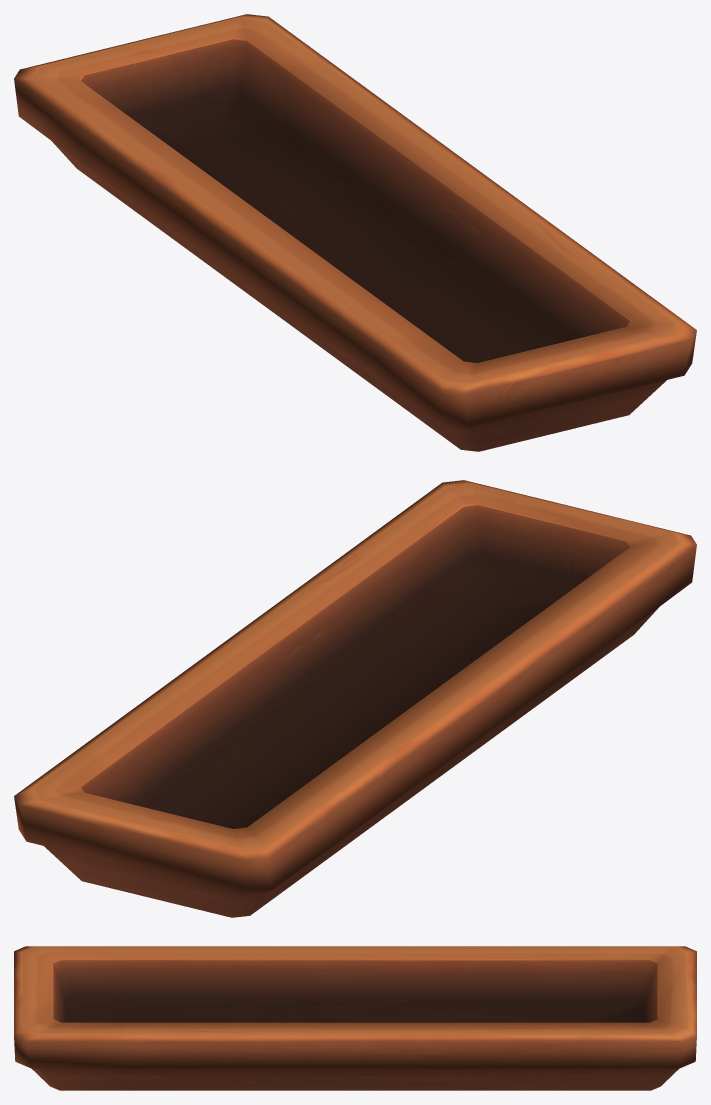
Rendered from SE_Pot_02c.fbx.
The picture shows the model from 3 angles, top to bottom: view 1: azimuth 30°, elevation 25°; view 2: azimuth 150°, elevation 25°; view 3: azimuth 270°, elevation 25°; orthographic projection. The views are drawn at different scales.
Parts seen in each view (by area): view 1: SE_Pot_02c; view 2: SE_Pot_02c; view 3: SE_Pot_02c.
Part boxes in pixels (x1,y1,x2,y2): SE_Pot_02c: (14,14,696,451); SE_Pot_02c: (14,480,696,917); SE_Pot_02c: (14,946,696,1090).
Size of the model in its own units: 1.49 by 0.506 by 4.48.
